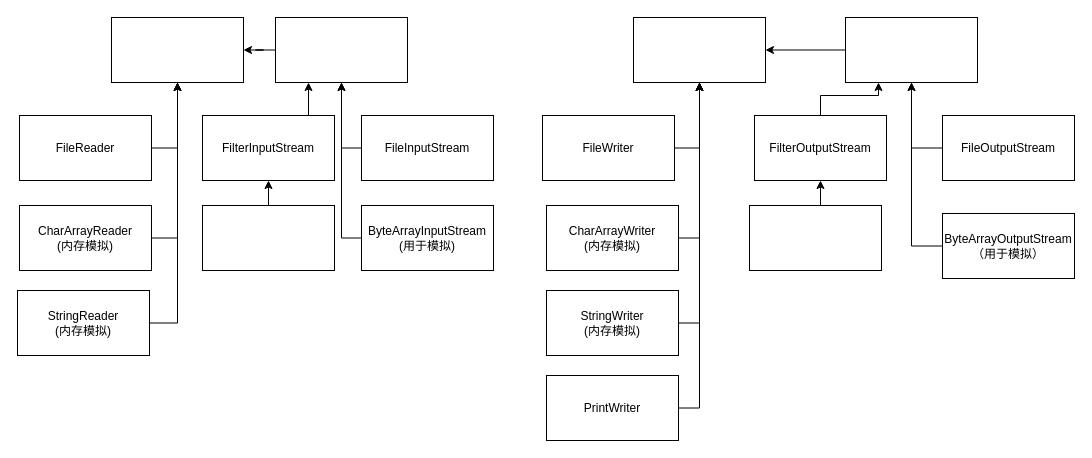
The diagram is 1092 pixels wide and 458 high, and some of its shapes have lost their labels. Here are the shapes that lost their labels. From the top down, the centre of each, then its label:
At pixel 177 49: "Reader (由InputSteam构造) 抽象类".
At pixel 341 49: "InputStream 抽象类".
At pixel 699 49: "Writer 抽象类, 字符流".
At pixel 911 49: "OutputStream 抽象类,字节流".
At pixel 268 237: "ZipInputStream".
At pixel 815 237: "PrintStream (包括System.out System.err)".
